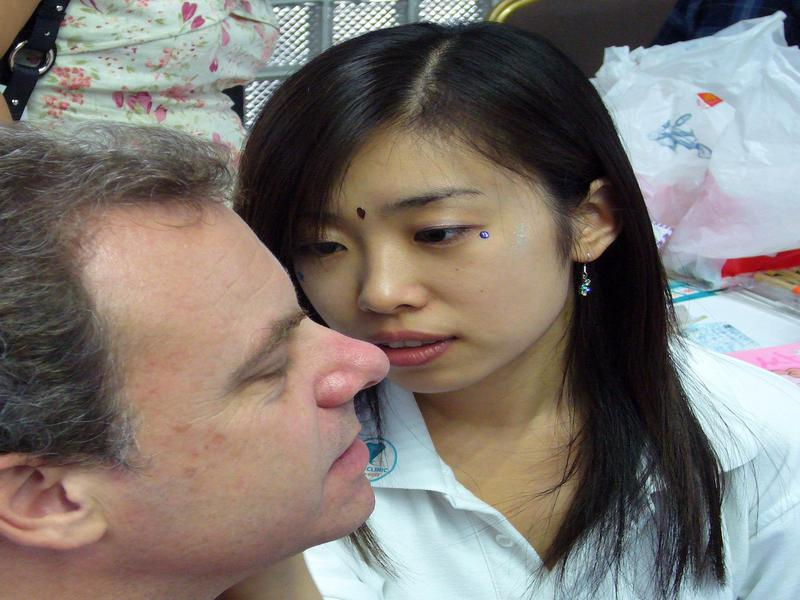person: (235, 19, 790, 600), (1, 124, 393, 597)
